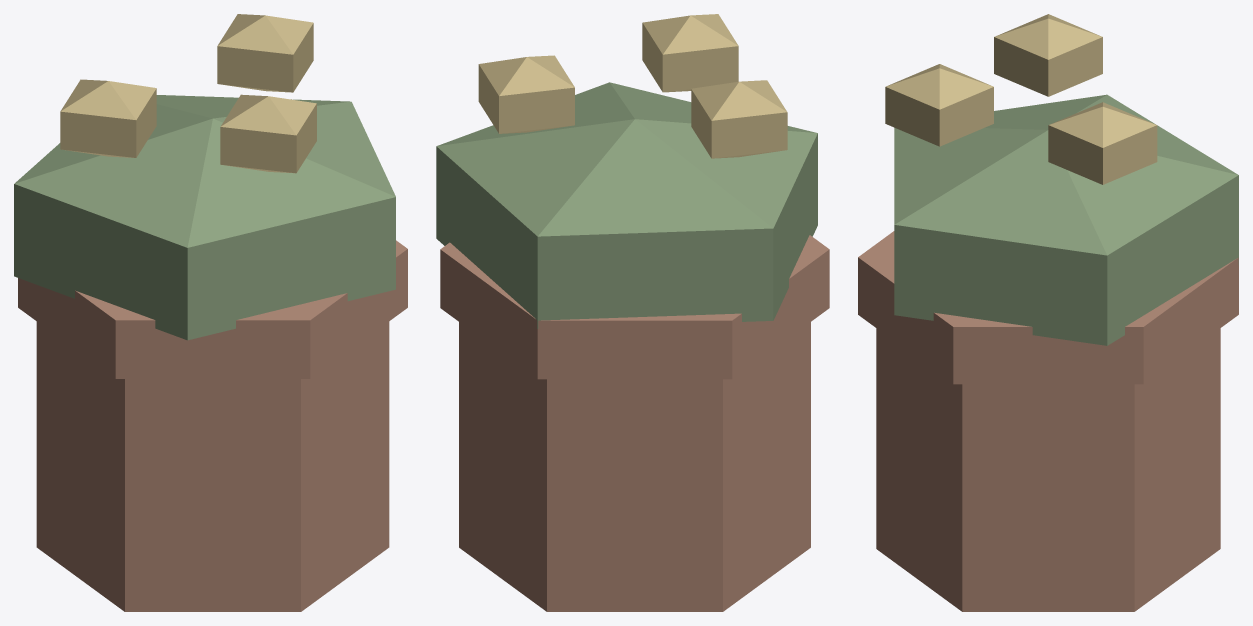
File: flower-pot.glb
3 renders of one model, left to right at view 1: azimuth 30°, elevation 25°; view 2: azimuth 150°, elevation 25°; view 3: azimuth 270°, elevation 25°, orthographic. The views are drawn at different scales.
Parts seen in each view (by area): view 1: flower_pot; view 2: flower_pot; view 3: flower_pot.
Boxes of the visible parts, bbox=[...] form: flower_pot: bbox=[14, 14, 407, 611]; flower_pot: bbox=[436, 14, 829, 611]; flower_pot: bbox=[858, 14, 1238, 611].
Bounding box in the file's own units: 0.14 × 0.195 × 0.14.
